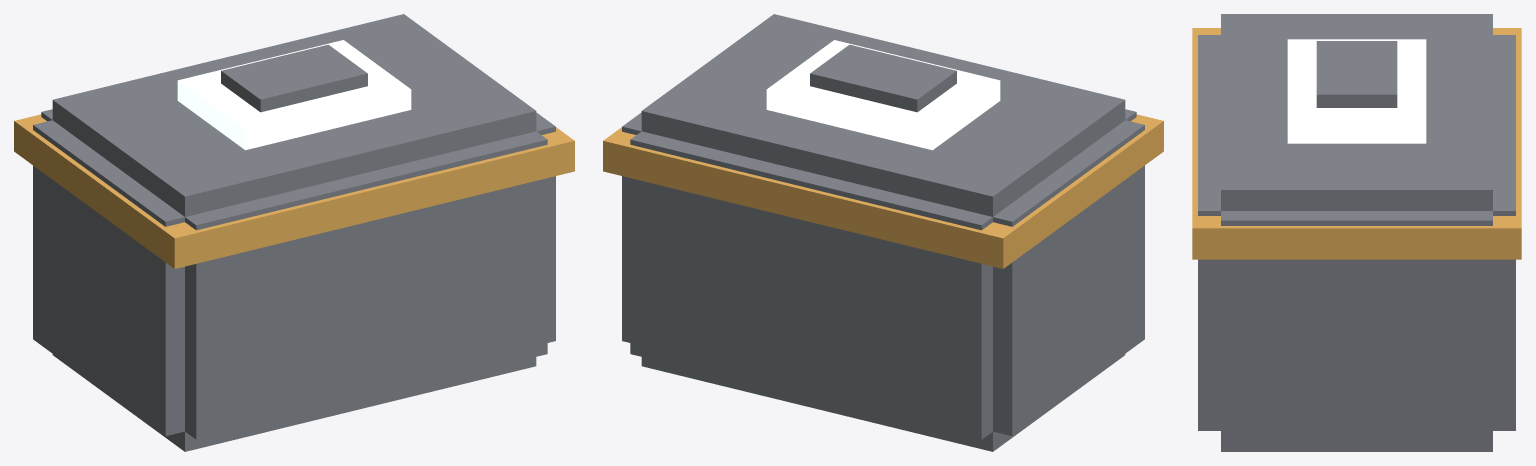
File: chip_crate.fbx
3 views of the same model, side by side, from view 1: azimuth 30°, elevation 25°; view 2: azimuth 150°, elevation 25°; view 3: azimuth 270°, elevation 25° (orthographic). The views are drawn at different scales.
Visible parts, largest first — view 1: chip_crate; view 2: chip_crate; view 3: chip_crate.
Part boxes in pixels (x1=…): chip_crate: x1=14, y1=14, x2=574, y2=451; chip_crate: x1=603, y1=14, x2=1163, y2=451; chip_crate: x1=1192, y1=14, x2=1521, y2=451.
Size of the model in its own units: 0.82 by 0.565 by 0.57.
